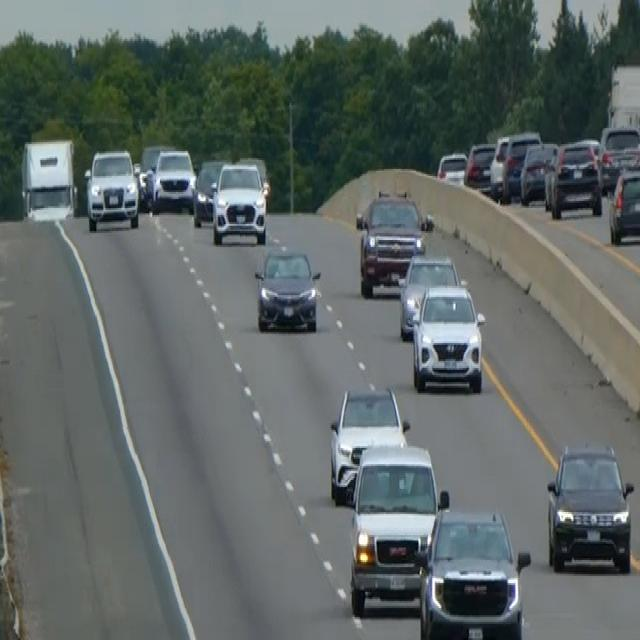car: (415, 494, 531, 638), (545, 439, 634, 574), (328, 384, 409, 505), (411, 281, 486, 393), (354, 187, 425, 295), (253, 244, 321, 332), (398, 250, 461, 340), (211, 158, 267, 245), (83, 146, 139, 231), (544, 138, 602, 218), (489, 130, 540, 202), (151, 146, 196, 212), (598, 123, 639, 190), (519, 138, 558, 204), (608, 164, 639, 245), (191, 156, 226, 226), (137, 142, 174, 208), (236, 153, 270, 201), (463, 140, 495, 190), (436, 149, 467, 185)
lorry: (19, 135, 77, 221)
minivan: (348, 441, 447, 617)
